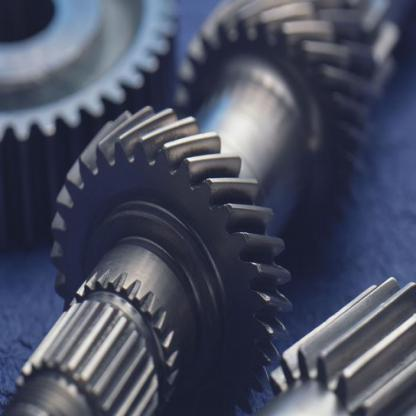FOD: (45, 103, 292, 415), (174, 0, 365, 233), (0, 0, 178, 248)
